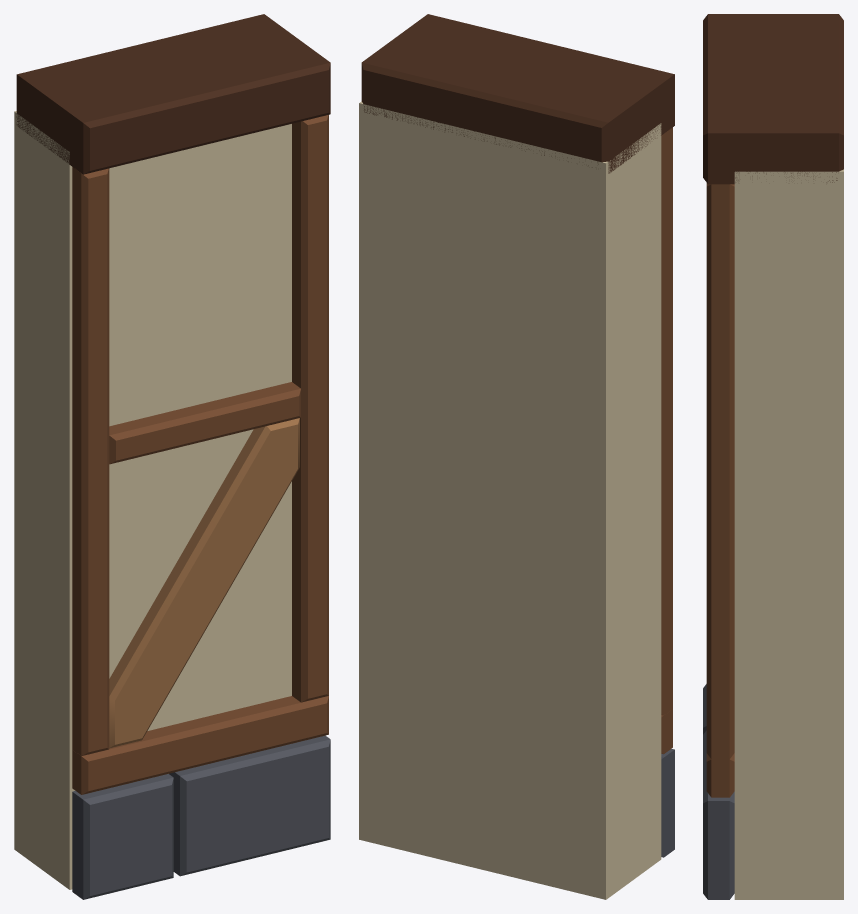
The model's file is WallStraight_07.glb.
3 views of the same model, side by side, from view 1: azimuth 30°, elevation 25°; view 2: azimuth 150°, elevation 25°; view 3: azimuth 270°, elevation 25° (orthographic).
Parts seen in each view (by area): view 1: WallStraight_07; view 2: WallStraight_07; view 3: WallStraight_07.
Boxes of the visible parts, <box> form: WallStraight_07: <box>14,14,330,899</box>; WallStraight_07: <box>359,14,674,899</box>; WallStraight_07: <box>703,14,843,899</box>.
Size of the model in its own units: 4 by 12 by 2.
